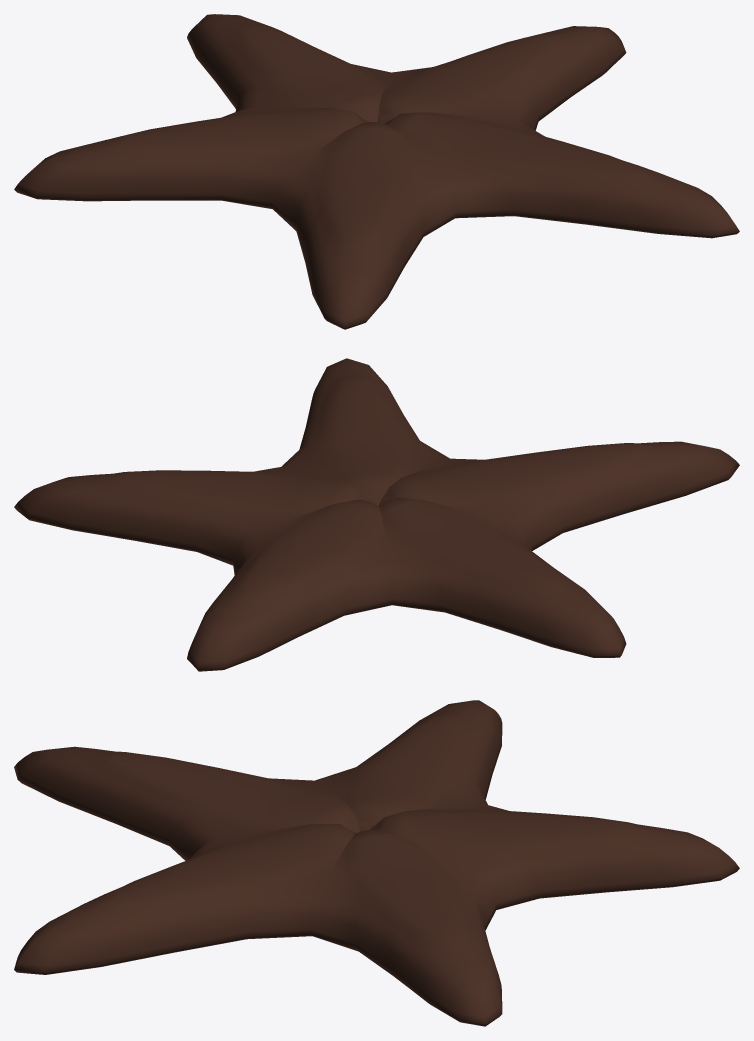
The model's file is CHOCOLATE STARFISH.glb.
3 views of the same model, one above another, from view 1: azimuth 30°, elevation 25°; view 2: azimuth 150°, elevation 25°; view 3: azimuth 270°, elevation 25° (orthographic). The views are drawn at different scales.
Parts seen in each view (by area): view 1: CHOCOLATE_STARFISH; view 2: CHOCOLATE_STARFISH; view 3: CHOCOLATE_STARFISH.
Boxes of the visible parts, <box> form: CHOCOLATE_STARFISH: <box>14,14,739,329</box>; CHOCOLATE_STARFISH: <box>14,358,739,671</box>; CHOCOLATE_STARFISH: <box>14,700,739,1026</box>.
Bounding box in the file's own units: 0.4423 × 0.036 × 0.4349.
